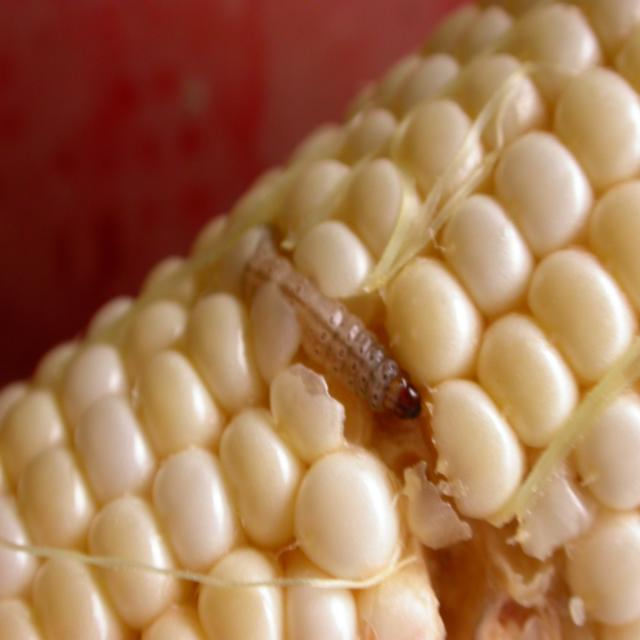cornborer-Larva-: (235, 229, 432, 438)
